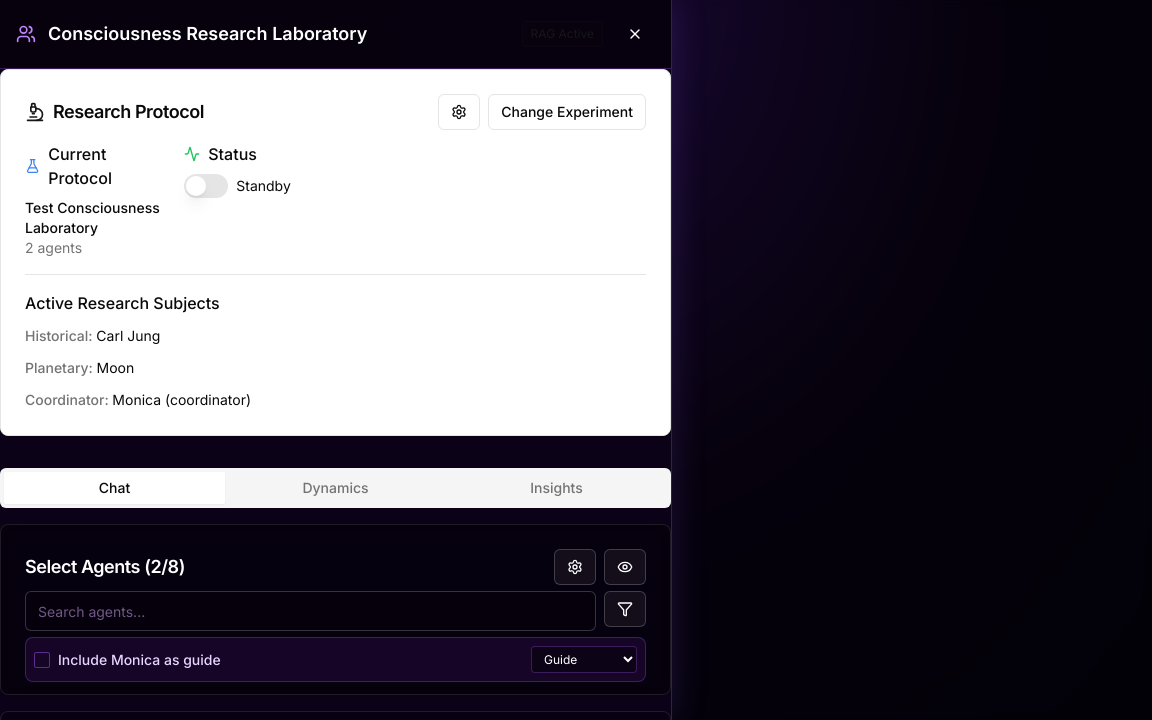
Test: ConsciousnessLaboratoryChat Component › Laboratory Controls Panel › displays advanced settings when enabled
Click the button named "settings" at (459, 112), box [438,94,480,130]
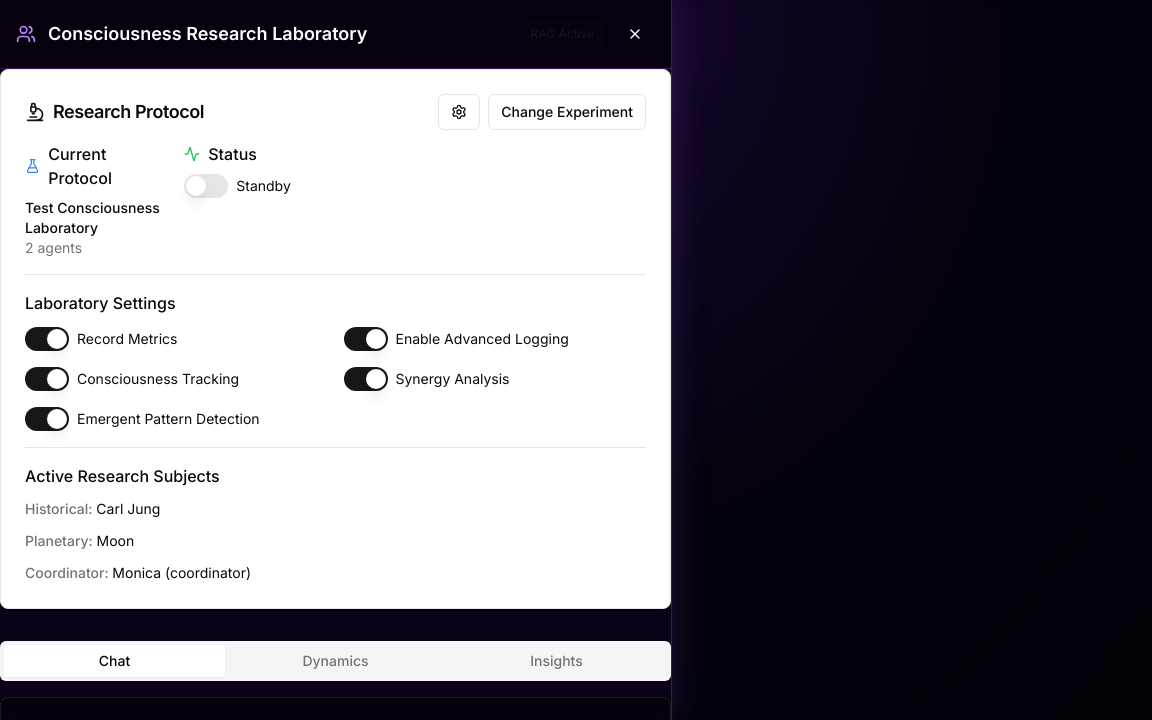
expect the heading "Laboratory Settings" is shown: met, box [25,293,176,313]
expect the text "Record Metrics" is shown: met, box [77,329,178,349]
expect the text "Enable Advanced Logging" is shown: met, box [396,329,569,349]
